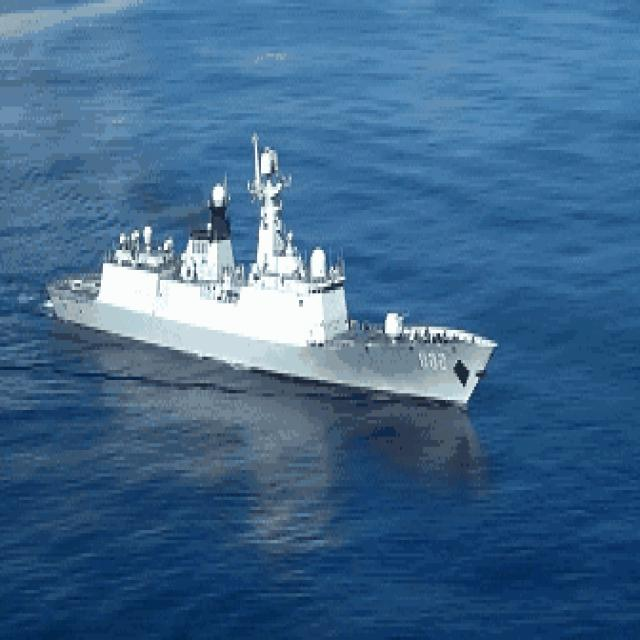navalvessels: (37, 126, 490, 454)
